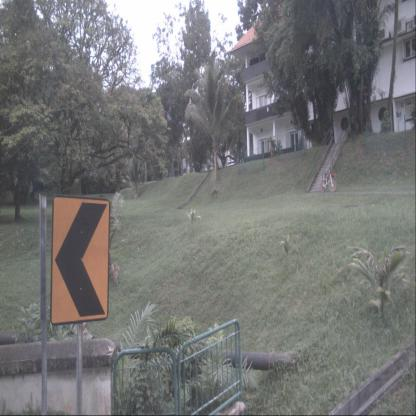vehicle-bicycle: (320, 167, 336, 193)
